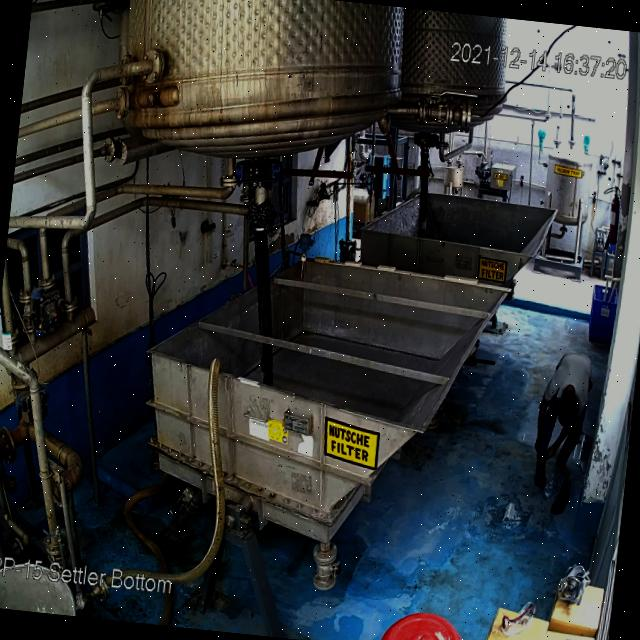boots: (548, 477, 574, 520), (530, 452, 552, 494)
no-boots: (553, 453, 574, 482)
